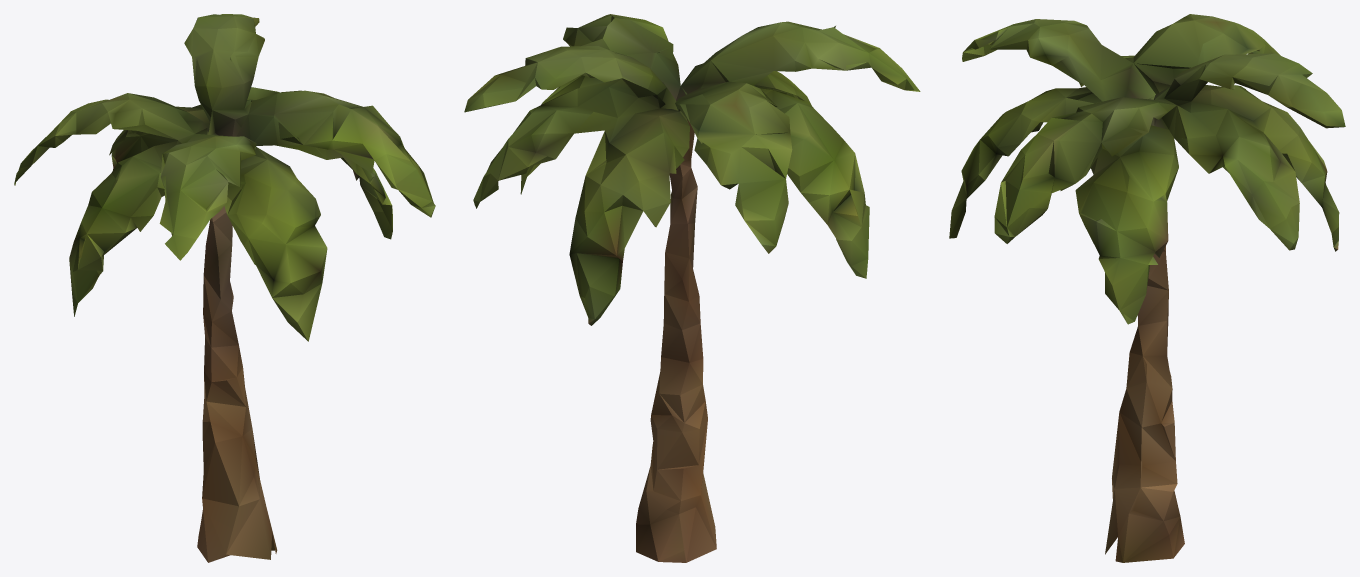
File: palm-forest.glb
3 views of the same model, side by side, from view 1: azimuth 30°, elevation 25°; view 2: azimuth 150°, elevation 25°; view 3: azimuth 270°, elevation 25° (orthographic). The views are drawn at different scales.
Bounding box in the file's own units: 1.32 × 1.9 × 1.34.
